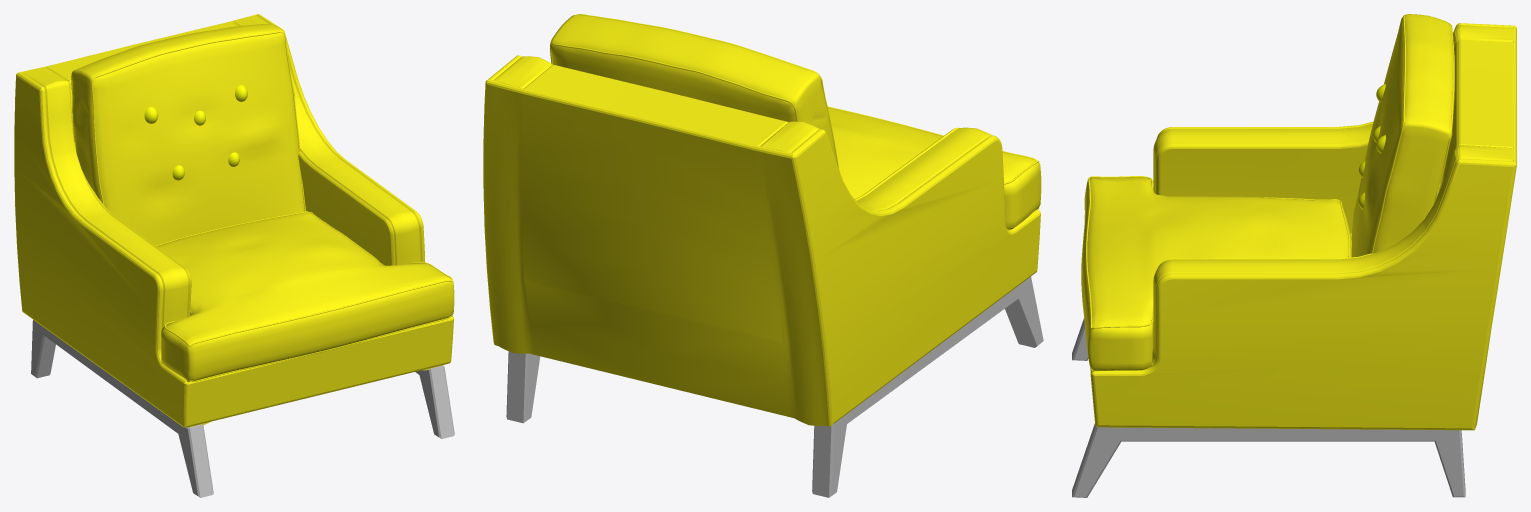
File: yellow.glb
3 renders of one model, left to right at view 1: azimuth 30°, elevation 25°; view 2: azimuth 150°, elevation 25°; view 3: azimuth 270°, elevation 25°, orthographic. The views are drawn at different scales.
Visible parts, largest first — view 1: buffer-0-mesh-0_1_1, buffer-0-mesh-0_0; view 2: buffer-0-mesh-0_1_1, buffer-0-mesh-0_0; view 3: buffer-0-mesh-0_1_1, buffer-0-mesh-0_0.
Part boxes in pixels (x1=…): buffer-0-mesh-0_1_1: x1=14, y1=14, x2=454, y2=427; buffer-0-mesh-0_0: x1=31, y1=320, x2=454, y2=497; buffer-0-mesh-0_1_1: x1=483, y1=14, x2=1041, y2=426; buffer-0-mesh-0_0: x1=506, y1=276, x2=1043, y2=497; buffer-0-mesh-0_1_1: x1=1081, y1=14, x2=1516, y2=430; buffer-0-mesh-0_0: x1=1072, y1=318, x2=1465, y2=497.
Bounding box in the file's own units: 0.7255 × 0.8044 × 0.8799.
